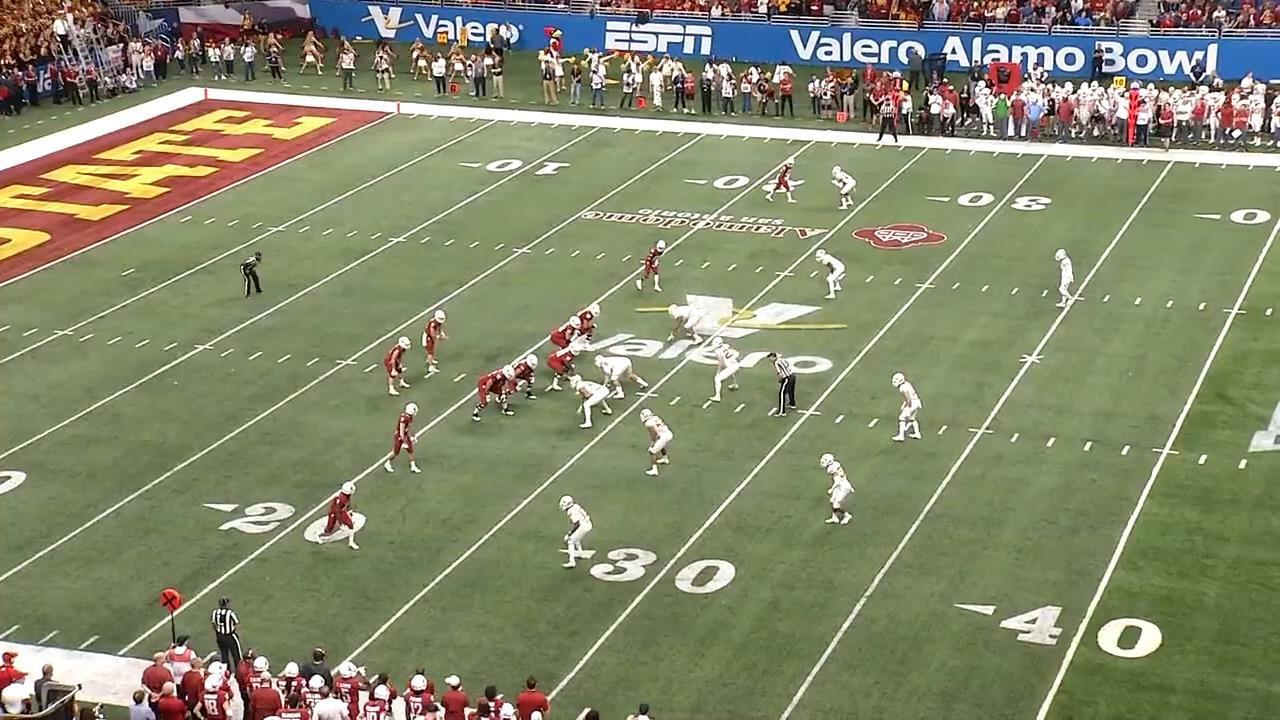defense: (555, 491, 593, 571), (821, 451, 855, 530), (594, 350, 650, 397), (568, 374, 614, 431), (891, 369, 925, 446), (640, 406, 673, 483), (709, 336, 739, 403), (1050, 246, 1080, 310), (665, 302, 707, 345), (818, 249, 851, 303), (832, 163, 859, 212)
oline: (474, 366, 520, 424), (502, 351, 541, 401), (548, 348, 583, 396), (569, 301, 601, 348), (548, 316, 581, 351)
qb: (422, 302, 450, 375)
ref: (765, 352, 796, 420), (238, 249, 267, 302), (876, 96, 900, 145)
skill: (388, 402, 426, 480), (321, 479, 362, 550), (635, 236, 670, 296), (388, 331, 419, 398), (762, 156, 800, 206)
